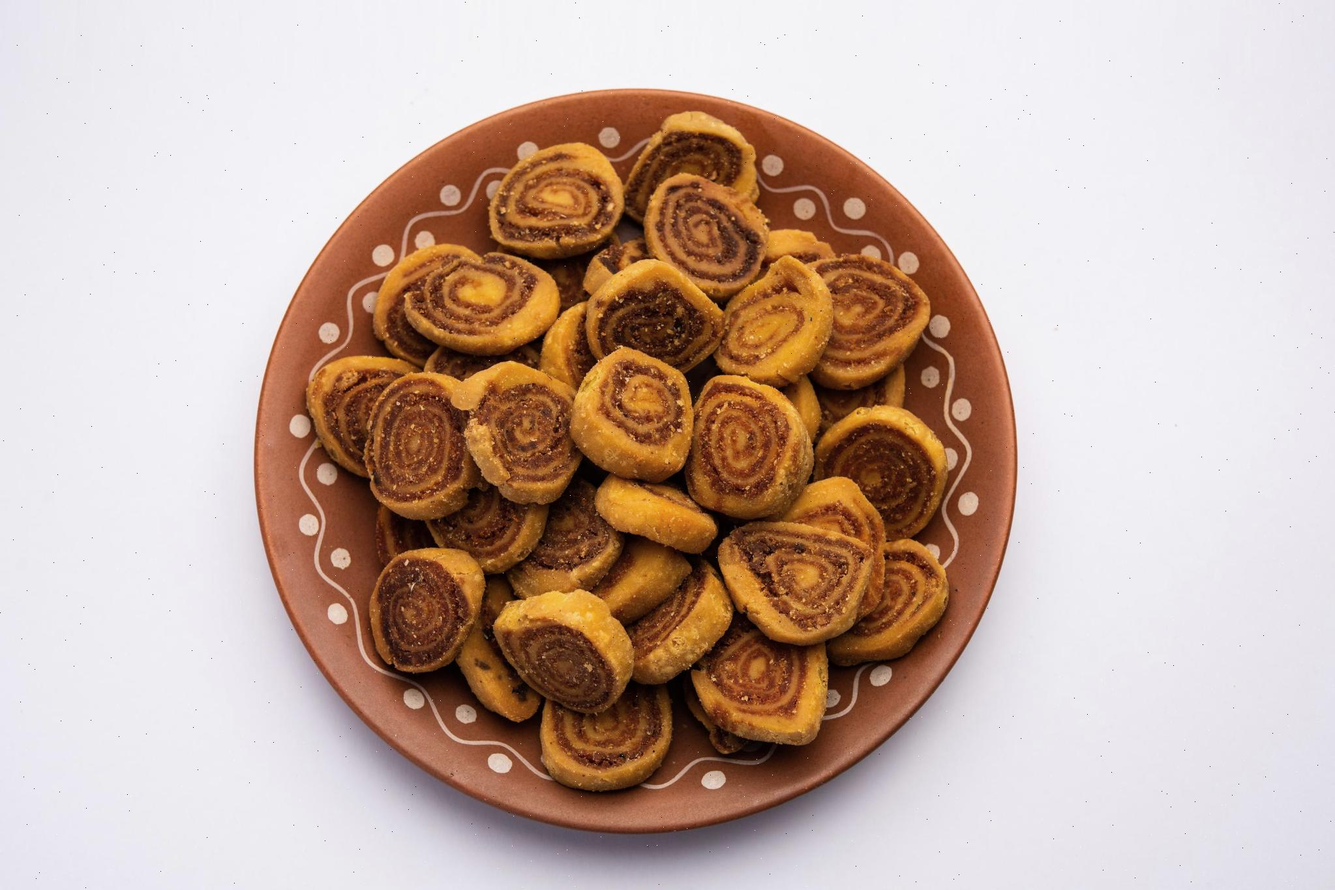bhakarwadi: (305, 117, 956, 800)
